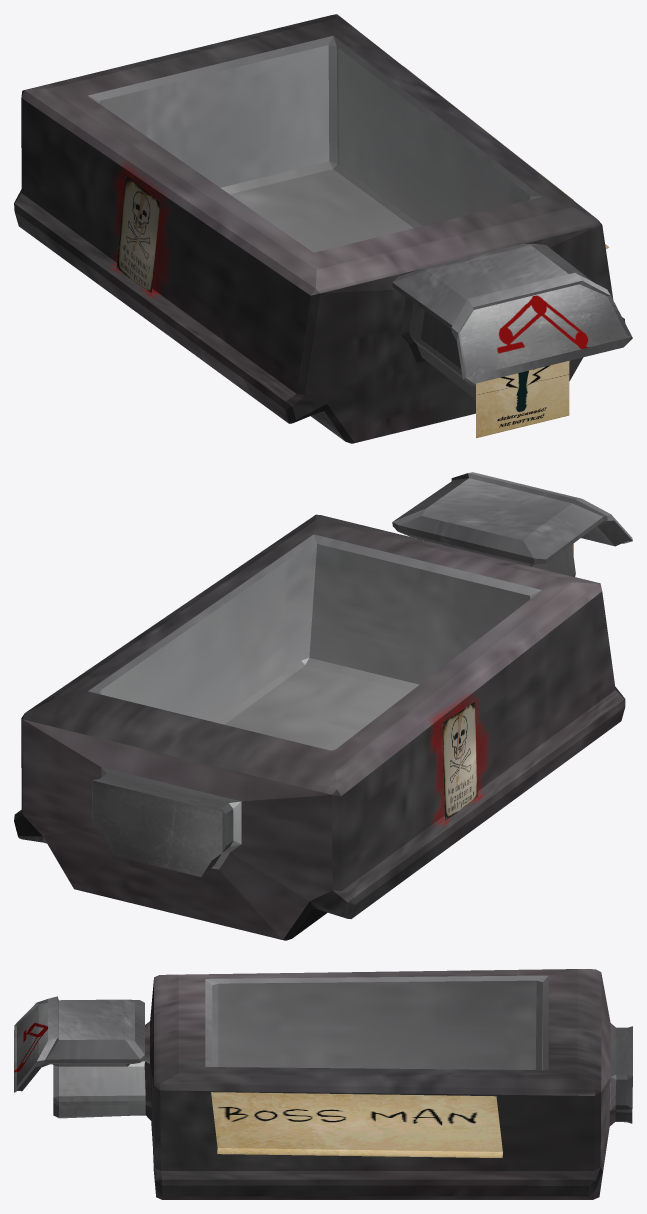
File: cart.glb
3 renders of one model, top to bottom at view 1: azimuth 30°, elevation 25°; view 2: azimuth 150°, elevation 25°; view 3: azimuth 270°, elevation 25°, orthographic. The views are drawn at different scales.
Parts seen in each view (by area): view 1: Cube; view 2: Cube; view 3: Cube.
Part boxes in pixels (bbox=[...]): Cube: bbox=[14, 14, 632, 443]; Cube: bbox=[14, 472, 632, 940]; Cube: bbox=[14, 969, 632, 1199].
Size of the model in its own units: 2.36 by 1.11 by 4.34.
Materials: 7 (7 with a texture image).
